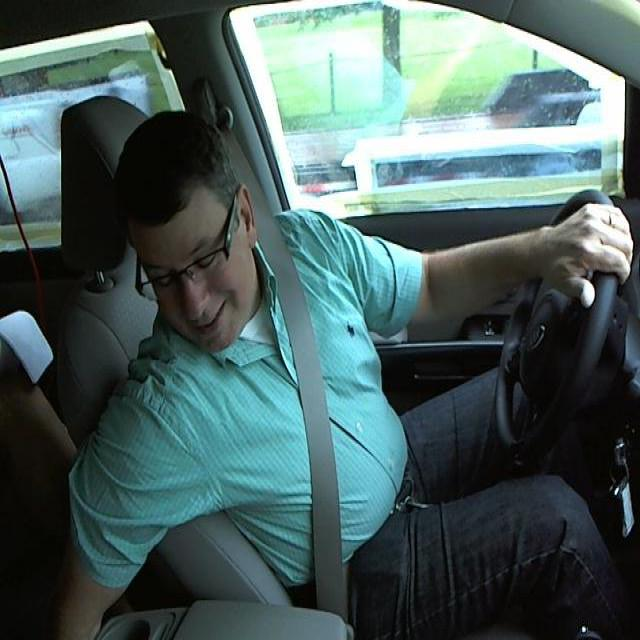seatbelt: (255, 235, 365, 620)
